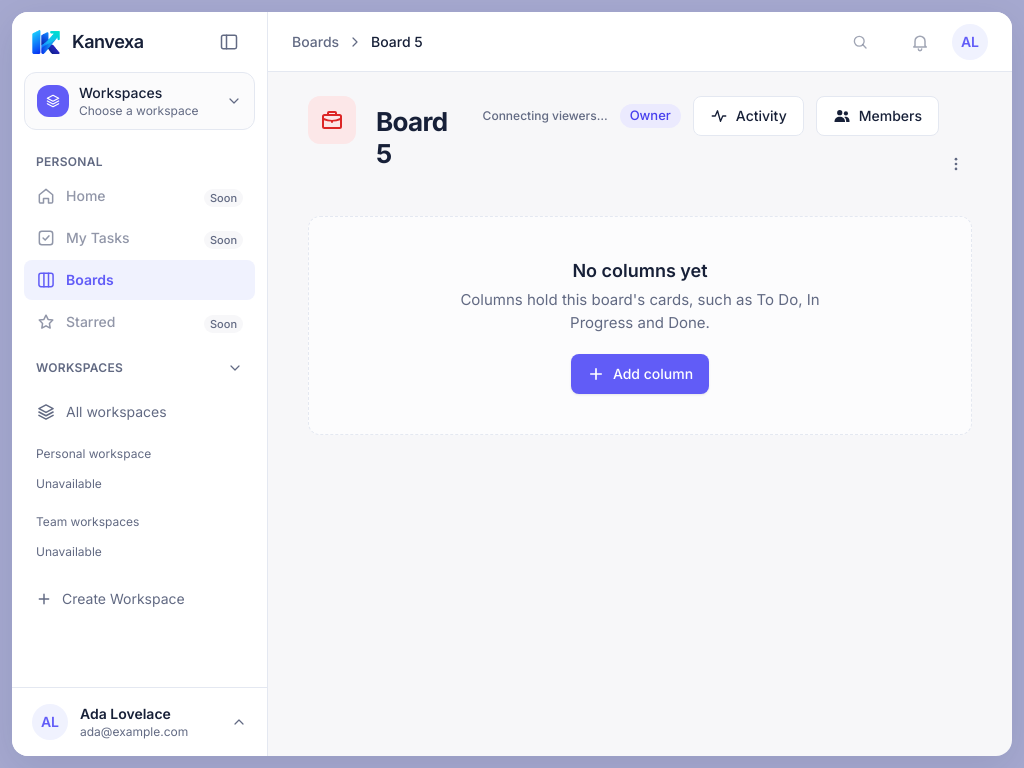
Scenario: column actions › shows the server’s validation message on the field
This screenshot has width=1024, height=768.
Click the button "Add column".
click(640, 374)  # box [571,354,709,394]
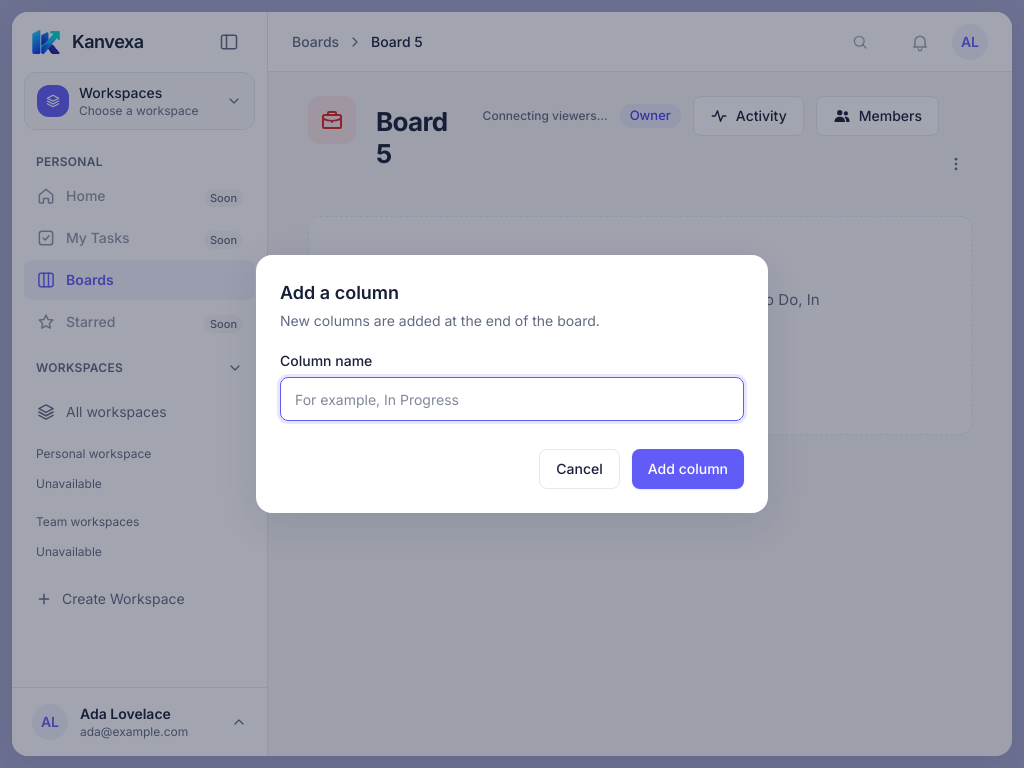
Type "Long" into the field labelled "Column name".
click(512, 399); type("Long")  # box [280,377,744,421]
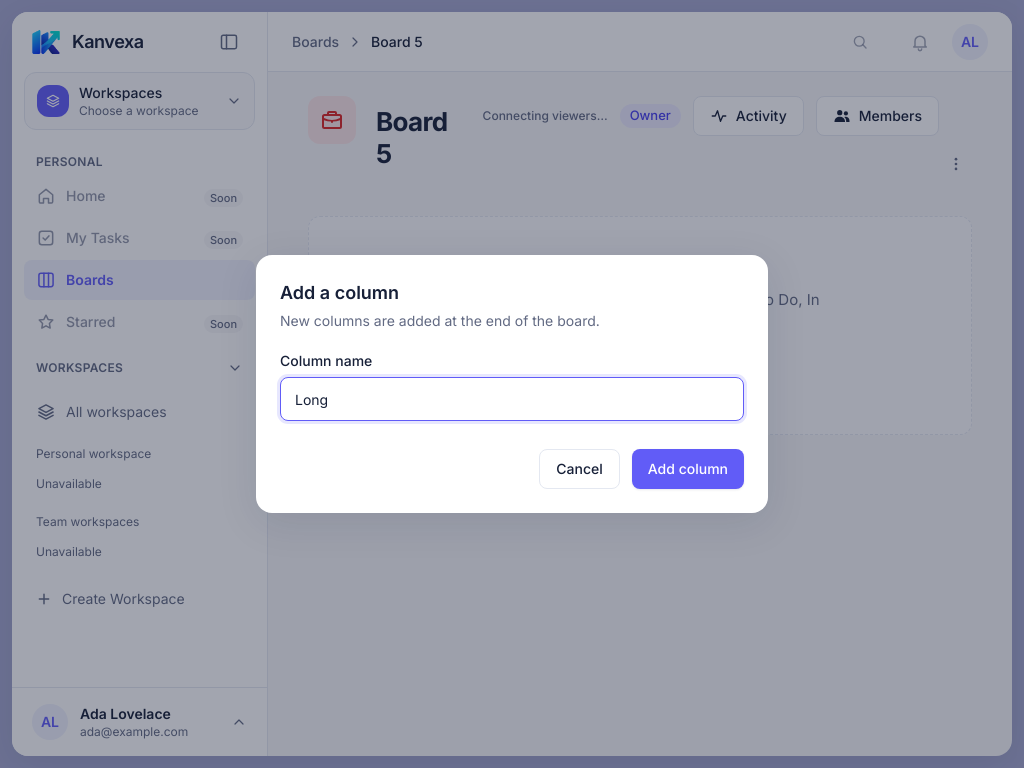
Click the button "Add column".
click(688, 469)  # box [632,449,744,489]
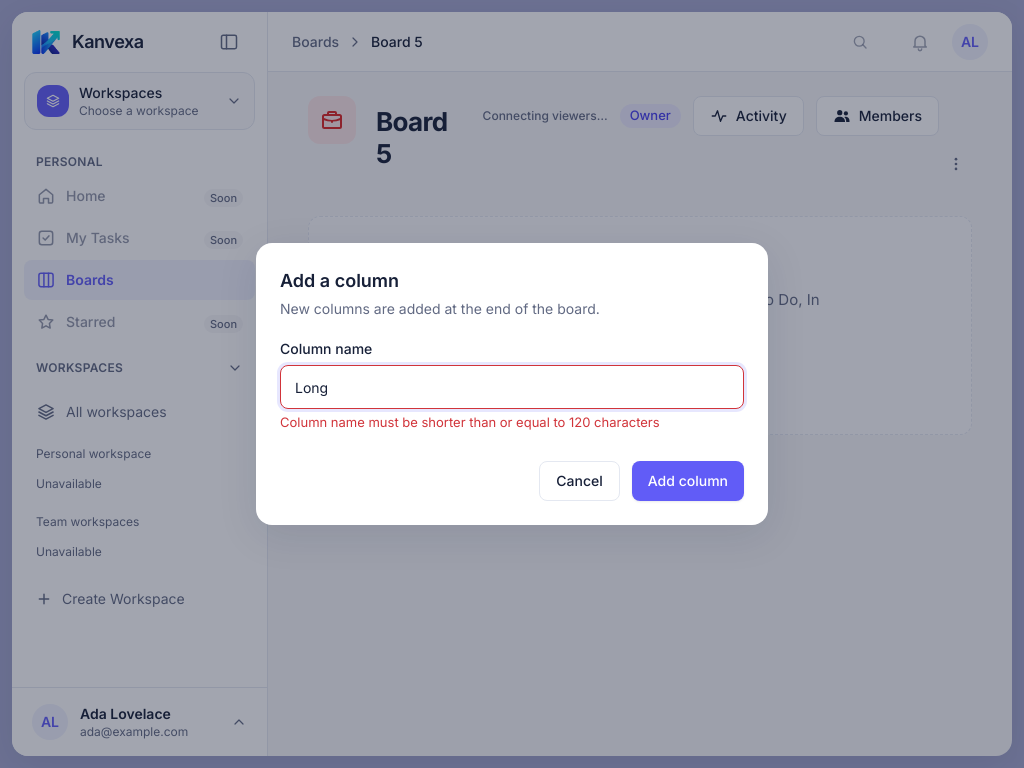
Check: the text "Column name must be shorter than or equal to 120 characters" is shown, box [280,414,660,430]
